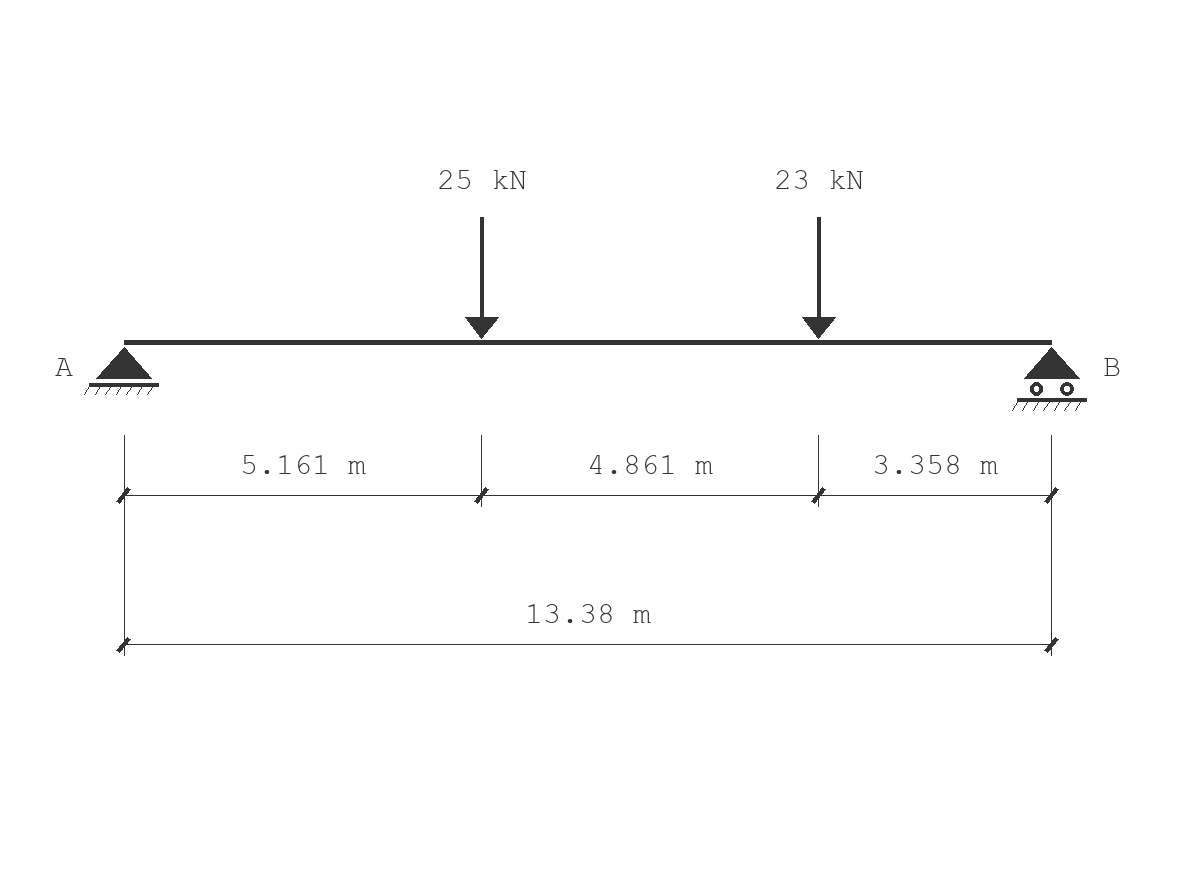pin_support: (84, 347, 159, 395)
point_load: (465, 217, 499, 339), (802, 217, 836, 339)
roller_support: (1012, 347, 1087, 411)
